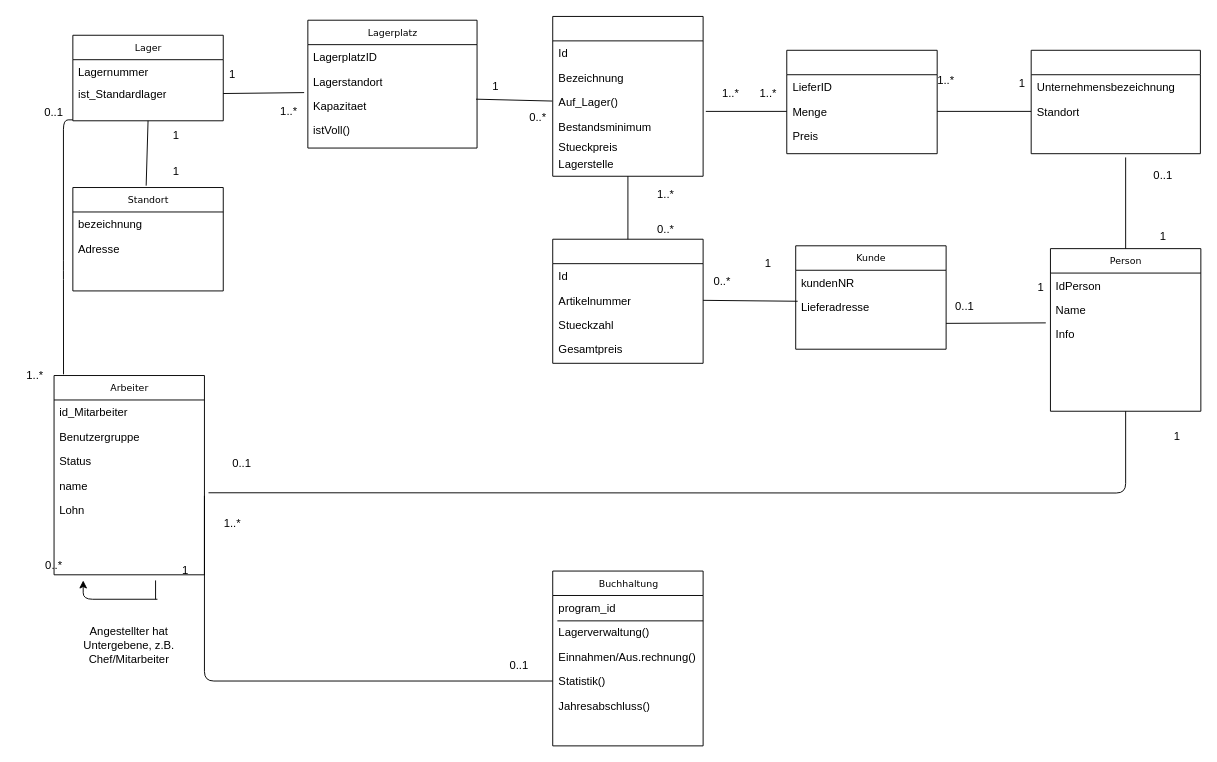
Some shapes in this 1217 by 762 pixel diagram are drawn without their labels. The shapes that lost their labels are listed below. From the top down, each one's box as (x1, y1, x2, y2) in pixels, then its label:
(552, 16, 703, 176): Artikel
(786, 49, 937, 154): Lieferung
(1030, 49, 1200, 154): Lieferant
(552, 238, 703, 363): Bestellung
